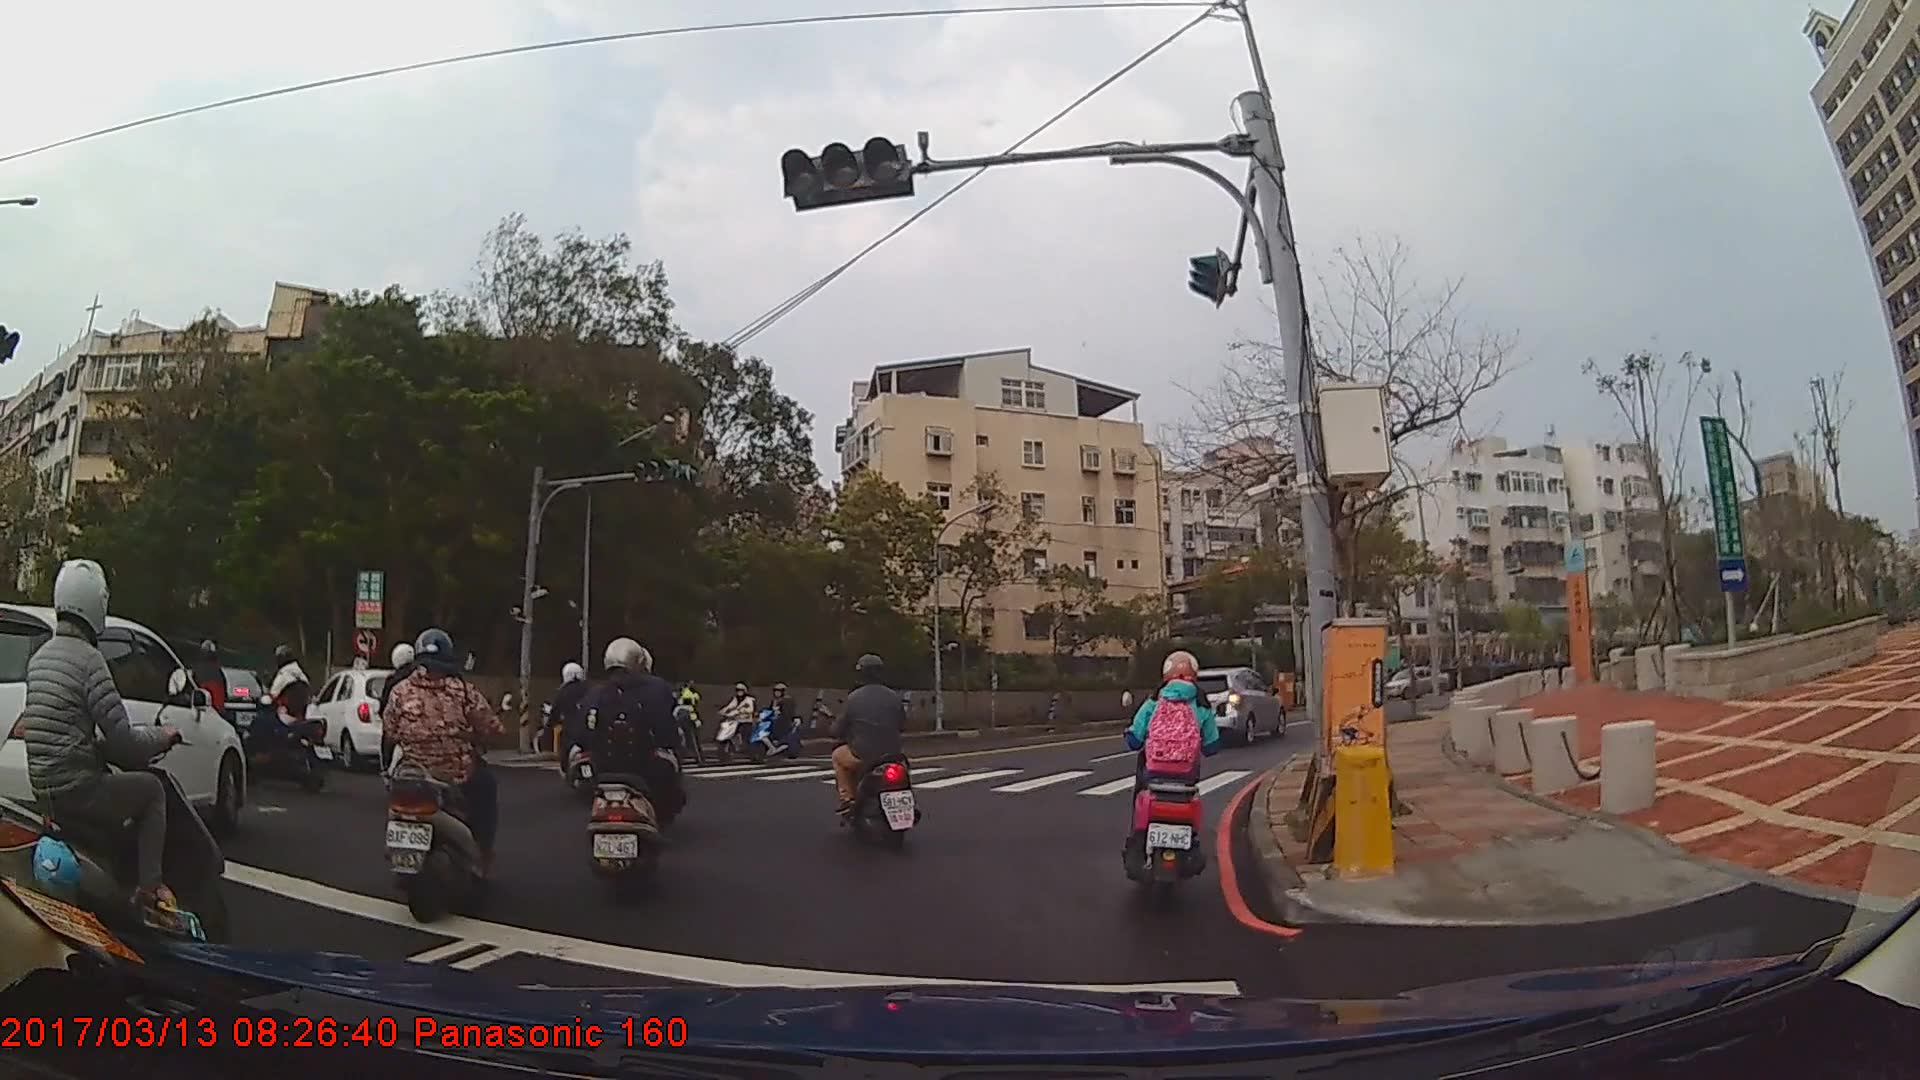pedestrian: (671, 673, 713, 773)
rider: (1, 557, 235, 1002), (380, 629, 504, 921), (572, 637, 686, 901), (1129, 651, 1229, 902), (825, 650, 918, 851), (534, 661, 617, 804), (250, 642, 319, 789), (171, 638, 234, 775), (753, 683, 806, 762), (719, 681, 762, 761)
vehicle: (0, 603, 244, 846), (298, 668, 428, 767), (1164, 666, 1287, 747), (1380, 664, 1453, 701)
